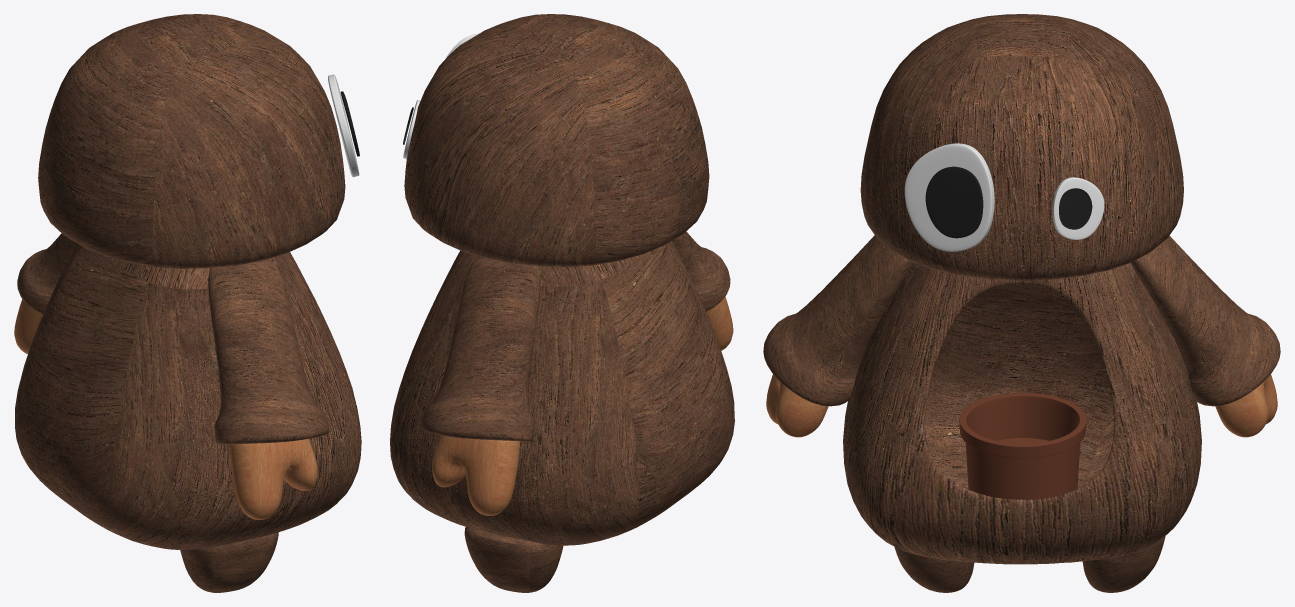
File: flowy.glb
The picture shows the model from 3 angles, left to right: view 1: azimuth 30°, elevation 25°; view 2: azimuth 150°, elevation 25°; view 3: azimuth 270°, elevation 25°; orthographic projection. The views are drawn at different scales.
Parts seen in each view (by area): view 1: Head, Body, Plane.003, Plane.004, LegLeft, Plane.001, Plane, Plane.002; view 2: Head, Body, Plane.001, Plane.002, RightLeg, Plane.003, Plane.004; view 3: Body, Head, Plane.003, Plane.001, Cylinder, Plane, Plane.005, RightLeg, Plane.002, Plane.004, LegLeft, Plane.006 (+1 smaller).
Boxes of the visible parts, box(x1,y1,x2,y2) form: Head: box(38, 14, 345, 268); Body: box(15, 243, 361, 549); Plane.003: box(208, 259, 329, 444); Plane.004: box(229, 438, 317, 519); LegLeft: box(180, 532, 278, 592); Plane.001: box(17, 233, 77, 314); Plane: box(328, 74, 359, 177); Plane.002: box(14, 299, 42, 353); Head: box(404, 14, 709, 266); Body: box(390, 241, 734, 545); Plane.001: box(420, 257, 540, 441); Plane.002: box(432, 435, 520, 515); RightLeg: box(464, 527, 563, 592); Plane.003: box(672, 231, 730, 311); Plane.004: box(706, 296, 733, 350); Body: box(843, 263, 1201, 564); Head: box(860, 14, 1183, 280); Plane.003: box(763, 235, 913, 406); Plane.001: box(1130, 235, 1280, 406); Cylinder: box(959, 393, 1086, 499); Plane: box(904, 143, 994, 251); Plane.005: box(925, 166, 983, 238); RightLeg: box(1082, 536, 1165, 592); Plane.002: box(1215, 374, 1277, 437); Plane.004: box(766, 374, 828, 437); LegLeft: box(894, 547, 974, 592); Plane.006: box(1052, 177, 1104, 239).
Bounding box in the file's own units: 0.2074 × 0.3684 × 0.3109.
5 materials, 2 textured.
